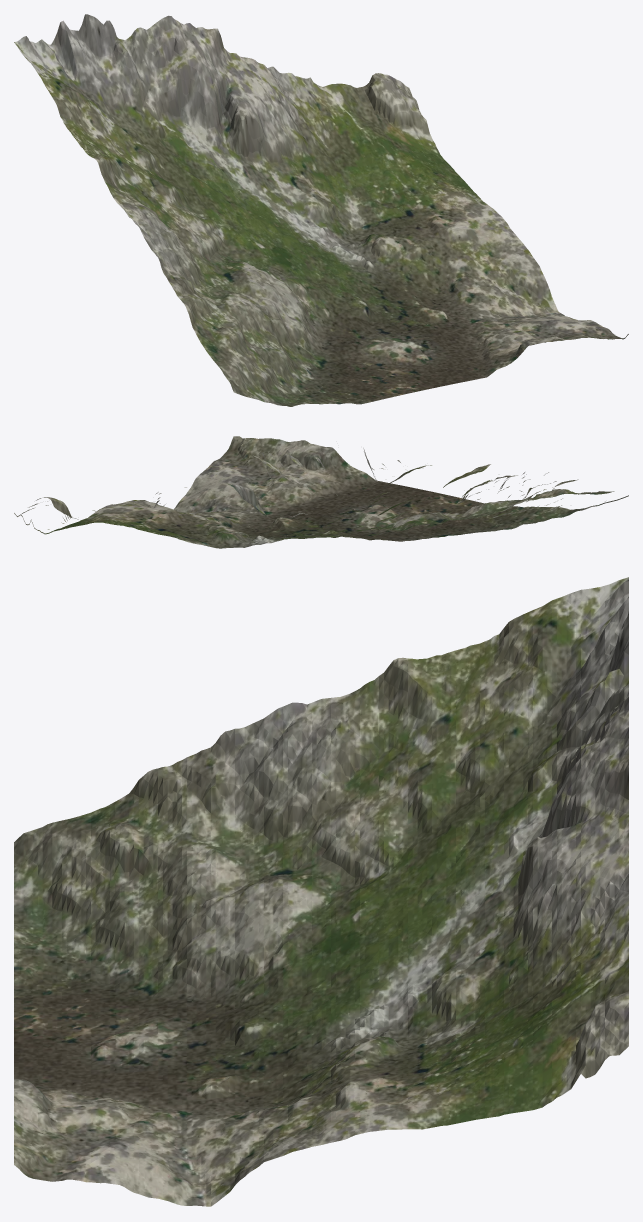
3 renders of one model, top to bottom at view 1: azimuth 30°, elevation 25°; view 2: azimuth 150°, elevation 25°; view 3: azimuth 270°, elevation 25°, orthographic. The views are drawn at different scales.
Bounding box in the file's own units: 500 × 324 × 481.
1 material, 1 textured.
